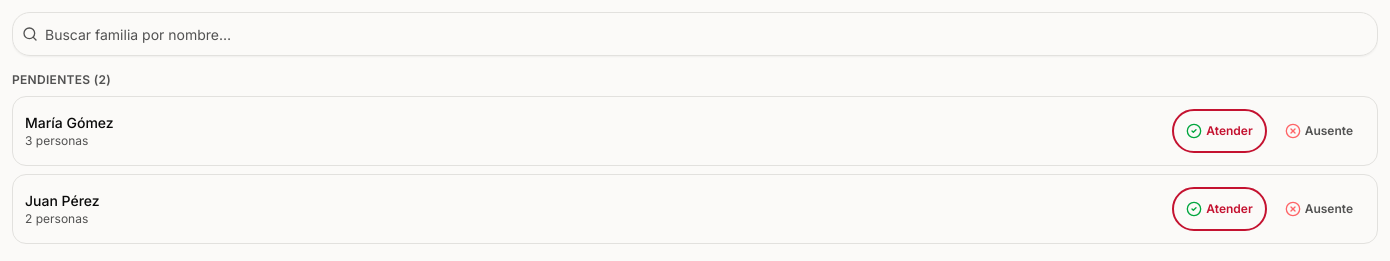
Test: CloseoutRosterList search (#141 salvage) › filters by name, accent- and case-insensitively
This screenshot has width=1390, height=261.
Check: the text "María Gómez" is shown, box [25,113,114,133]
Check: the text "Juan Pérez" is shown, box [25,191,100,211]
# "gomez" (no accent, lowercase) matches "María Gómez" only.
Type "gomez" into the field named "Buscar familia en la lista" at x=695, y=34, box [12,12,1378,56]
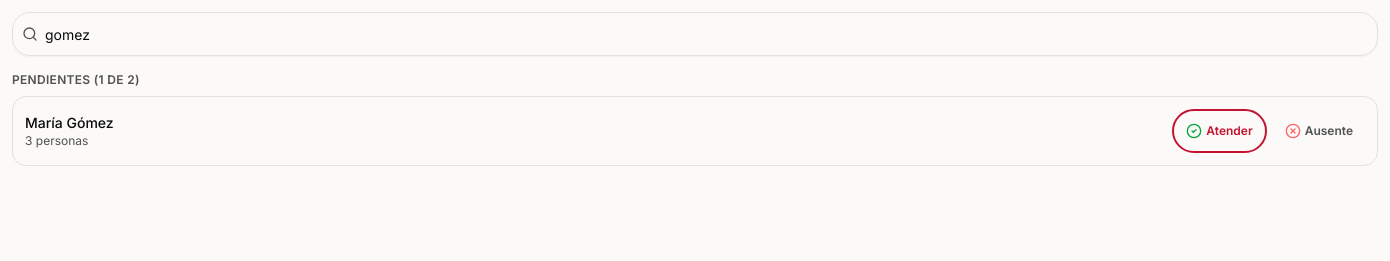
Check: the text "María Gómez" is shown, box [25,113,114,133]
Check: the text "Juan Pérez" is gone
